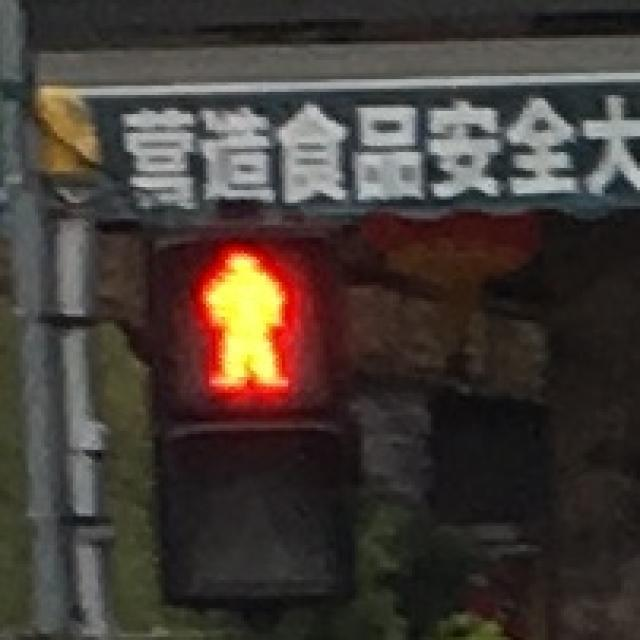red-crossing: (165, 234, 320, 409)
